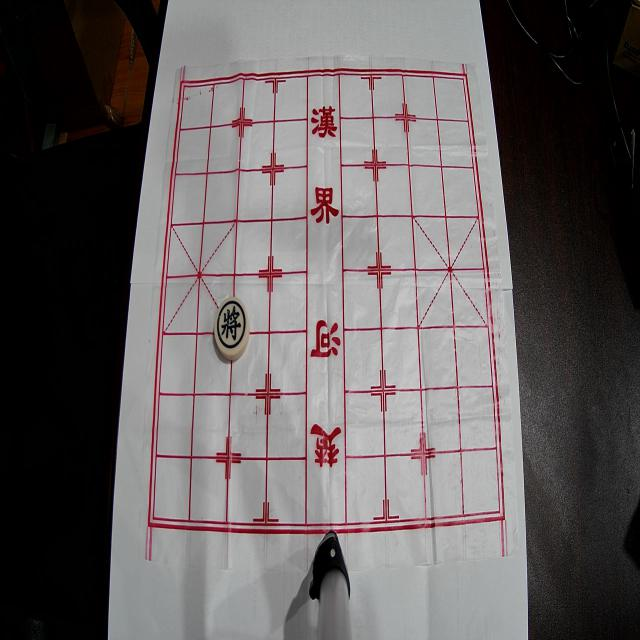black-general: (214, 297, 250, 360)
